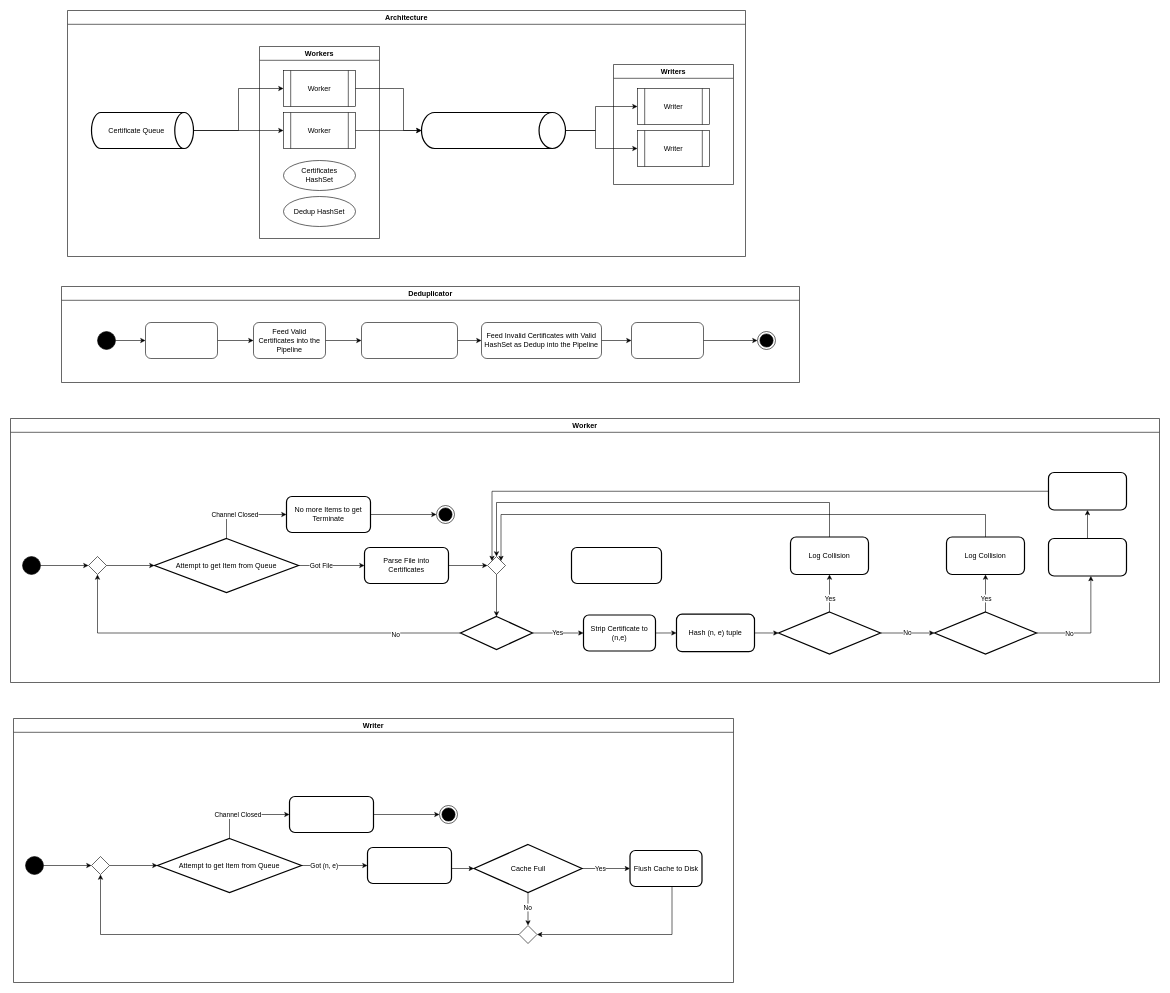
This 1170x993 diagram has some shape labels left out. The shapes that lost their labels are listed below. From the top down, each one's centre as x and y in pixels, then its label:
the point at 493,130: Unique (N, e) pair Queue
the point at 181,340: Split downloaded RSA files into Valid and Invalid
the point at 409,340: Await Completion and get back Valid Certificates Hashset
the point at 667,340: Await Completion
the point at 1087,491: Send (n, e) tuple into Writer Queue
the point at 616,565: Send Parsed Certificate into Writer Queue
the point at 1087,557: Add Hash into Certificate Set
the point at 496,633: More Items?
the point at 829,632: Hash in Dedup Set
the point at 985,632: Hash in Certificate Set
the point at 331,814: No more Items to get Flush Cache Terminate
the point at 409,865: Add Item to Cache
